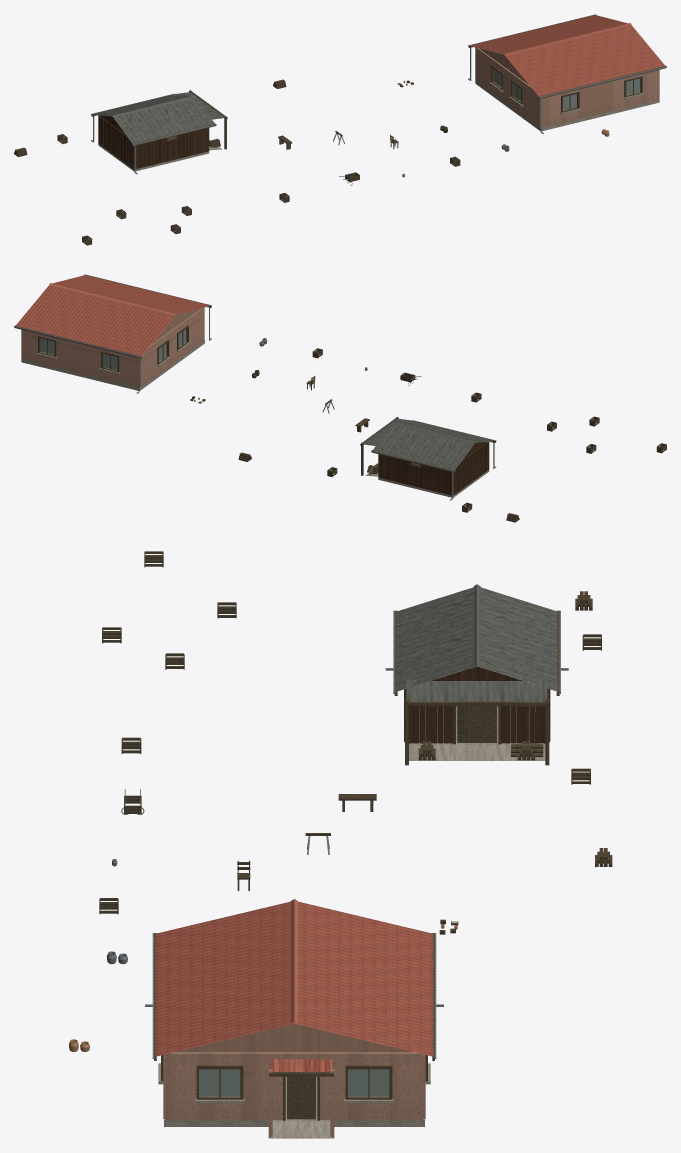
3 views of the same model, one above another, from view 1: azimuth 30°, elevation 25°; view 2: azimuth 150°, elevation 25°; view 3: azimuth 270°, elevation 25° (orthographic). The views are drawn at different scales.
Parts seen in each view (by area): view 1: H09_TELHAS, H09_GALPAO_CHAPAS_ONDULADAS, H09_LATERAIS, H09_FUNDOS, H09_GALPAO_LATERAIS, H09_GALPAO_MATA_JUNTAS, H09_GALPAO_FUNDOS, H09_FUNDACAO, H09_VIDROS_RECUADOS, H09_CAIXILHOS, H09_BEIRAIS; view 2: H09_TELHAS, H09_GALPAO_CHAPAS_ONDULADAS, H09_LATERAIS, H09_FUNDOS, H09_GALPAO_LATERAIS, H09_GALPAO_MATA_JUNTAS, H09_GALPAO_FUNDOS, H09_FUNDACAO, H09_VIDROS_RECUADOS, H09_CAIXILHOS, H09_BEIRAIS; view 3: H09_TELHAS, H09_GALPAO_CHAPAS_ONDULADAS, H09_FACHADA, H09_OITOES, H09_GALPAO_FACHADA, H09_GALPAO_ALPENDRE_COBERTURA, H09_VIDROS_RECUADOS, H09_FUNDACAO, H09_GALPAO_RAMPA, H09_GALPAO_PORTA_FOLHA, H09_CAIXILHOS, H09_PORTA_FOLHA (+4 smaller).
Part boxes in pixels (left/top/right/bottom): H09_TELHAS: left=470, top=15, right=664, bottom=96; H09_GALPAO_CHAPAS_ONDULADAS: left=93, top=94, right=214, bottom=143; H09_LATERAIS: left=542, top=70, right=658, bottom=127; H09_FUNDOS: left=475, top=47, right=540, bottom=127; H09_GALPAO_LATERAIS: left=135, top=128, right=208, bottom=168; H09_GALPAO_MATA_JUNTAS: left=99, top=116, right=207, bottom=168; H09_GALPAO_FUNDOS: left=98, top=115, right=133, bottom=168; H09_FUNDACAO: left=475, top=80, right=659, bottom=131; H09_VIDROS_RECUADOS: left=494, top=69, right=640, bottom=110; H09_CAIXILHOS: left=491, top=65, right=642, bottom=112; H09_BEIRAIS: left=468, top=14, right=666, bottom=98; H09_TELHAS: left=16, top=275, right=209, bottom=356; H09_GALPAO_CHAPAS_ONDULADAS: left=373, top=421, right=494, bottom=469; H09_LATERAIS: left=22, top=330, right=138, bottom=387; H09_FUNDOS: left=139, top=307, right=204, bottom=387; H09_GALPAO_LATERAIS: left=379, top=441, right=487, bottom=495; H09_GALPAO_MATA_JUNTAS: left=380, top=442, right=488, bottom=495; H09_GALPAO_FUNDOS: left=453, top=442, right=488, bottom=494; H09_FUNDACAO: left=21, top=340, right=204, bottom=390; H09_VIDROS_RECUADOS: left=40, top=329, right=186, bottom=370; H09_CAIXILHOS: left=38, top=325, right=188, bottom=372; H09_BEIRAIS: left=14, top=274, right=211, bottom=358; H09_TELHAS: left=155, top=901, right=433, bottom=1056; H09_GALPAO_CHAPAS_ONDULADAS: left=396, top=587, right=557, bottom=691; H09_FACHADA: left=166, top=1052, right=422, bottom=1120; H09_OITOES: left=175, top=1024, right=413, bottom=1052; H09_GALPAO_FACHADA: left=409, top=706, right=545, bottom=743; H09_GALPAO_ALPENDRE_COBERTURA: left=406, top=679, right=547, bottom=701; H09_VIDROS_RECUADOS: left=199, top=1069, right=389, bottom=1096; H09_FUNDACAO: left=164, top=1069, right=424, bottom=1126; H09_GALPAO_RAMPA: left=409, top=745, right=545, bottom=760; H09_GALPAO_PORTA_FOLHA: left=457, top=706, right=496, bottom=742; H09_CAIXILHOS: left=161, top=1055, right=427, bottom=1099; H09_PORTA_FOLHA: left=287, top=1076, right=315, bottom=1119.
Size of the model in its own units: 48.34 by 4.28 by 19.34.
13 materials, 10 textured.
